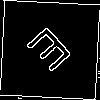E: (25, 25, 80, 81)
